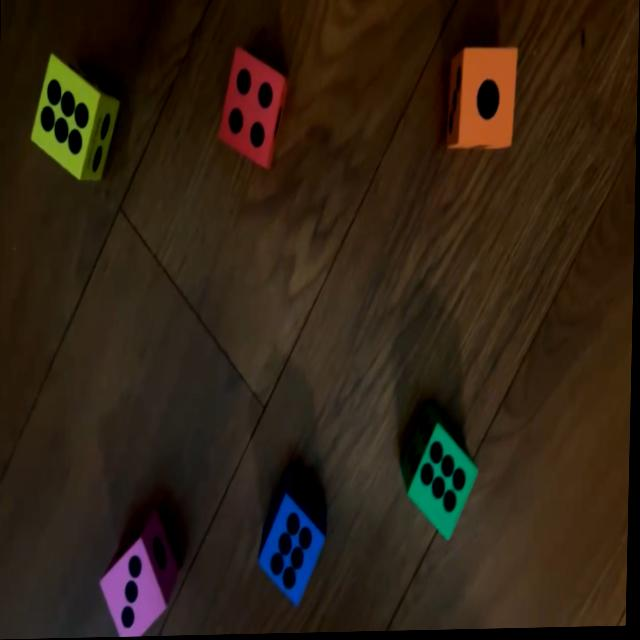cube: (402, 406, 481, 546), (260, 469, 330, 609), (217, 48, 288, 173)
